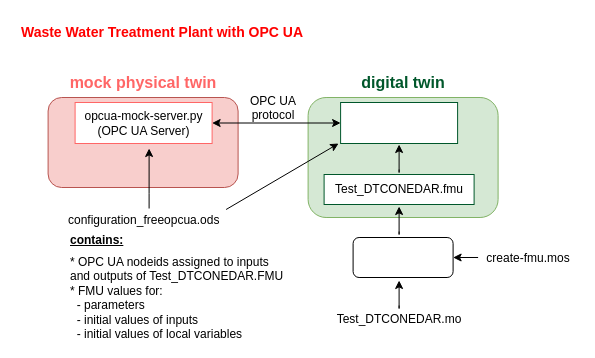
The diagram is 595 pixels wide and 358 high, and some of its shapes have lost their labels. Here are the shapes that lost their labels. From the top down, the centre of each, then its label:
At [399,123]: "client-opcua.py (OPC UA Client)".
At [402,257]: "Open Modelica".
